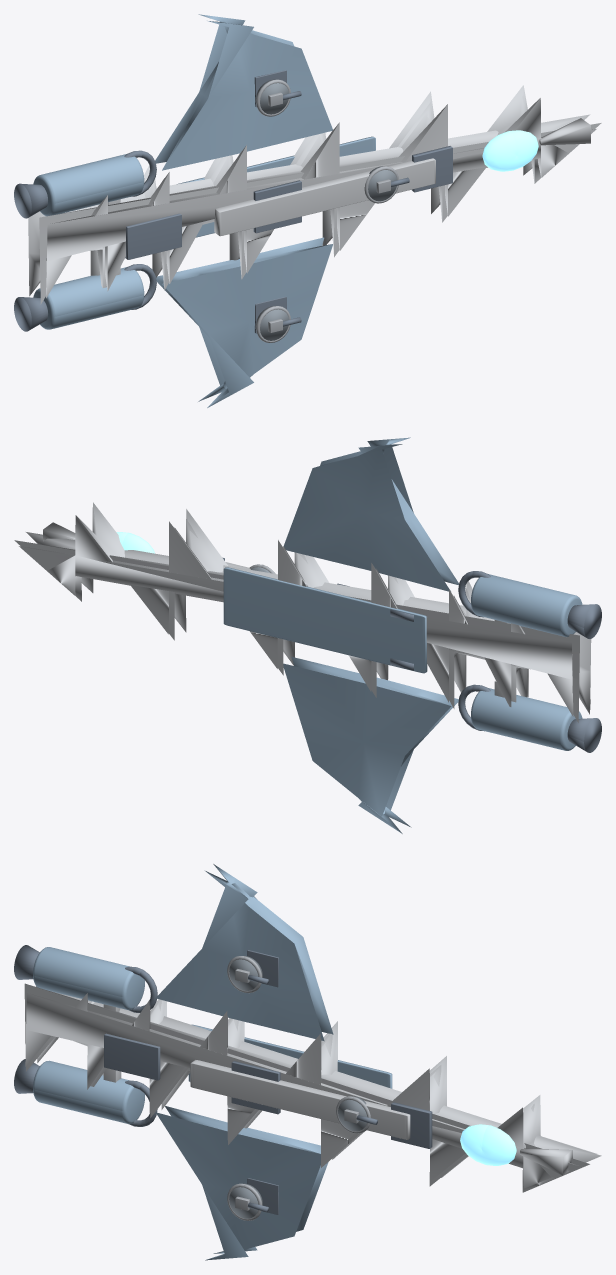
The model's file is hero_frigate.glb.
3 views of the same model, one above another, from view 1: azimuth 30°, elevation 25°; view 2: azimuth 150°, elevation 25°; view 3: azimuth 330°, elevation 25° (orthographic).
Visible parts, largest first — view 1: HeroShip_Frigate; view 2: HeroShip_Frigate; view 3: HeroShip_Frigate.
Part boxes in pixels (x1,y1,x2,y2): HeroShip_Frigate: (14, 14, 601, 407); HeroShip_Frigate: (14, 437, 601, 833); HeroShip_Frigate: (14, 864, 601, 1260).
Bounding box in the file's own units: 3.7 × 2.4 × 0.332.
